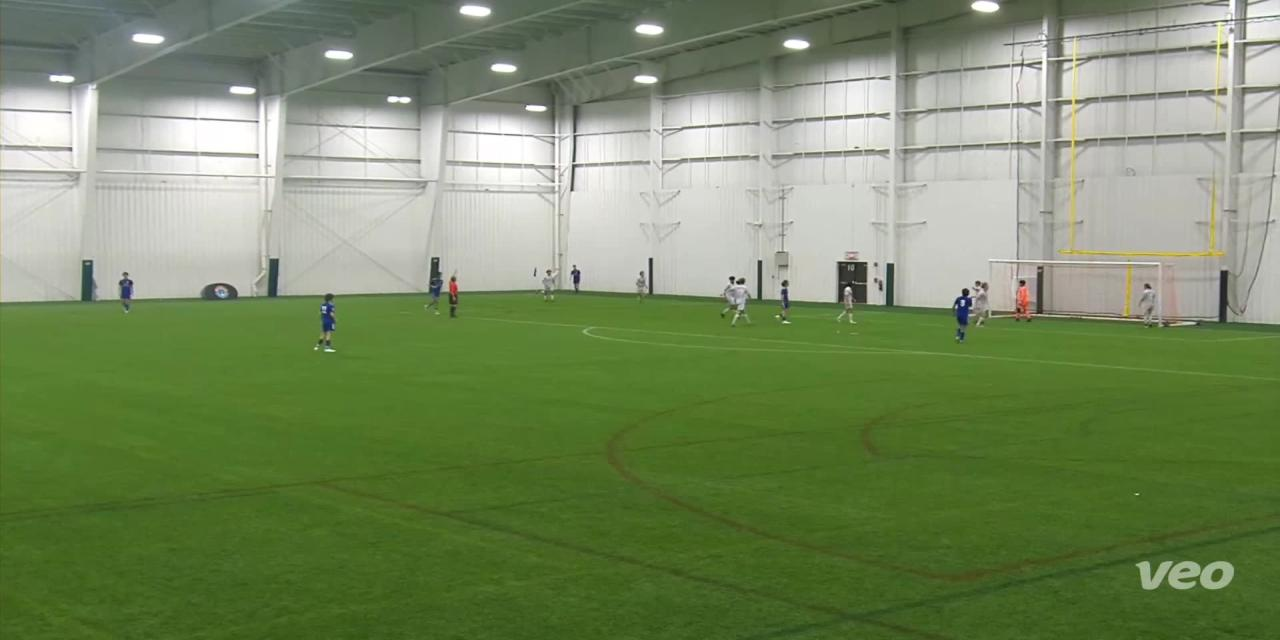goal: (984, 257, 1197, 334)
sports ball: (537, 286, 548, 298)
